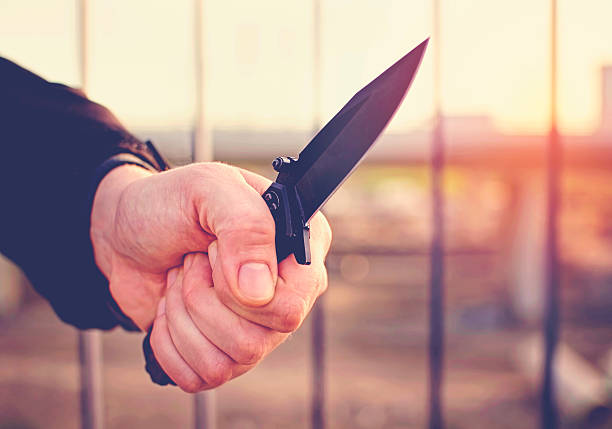knife: (140, 38, 432, 389)
